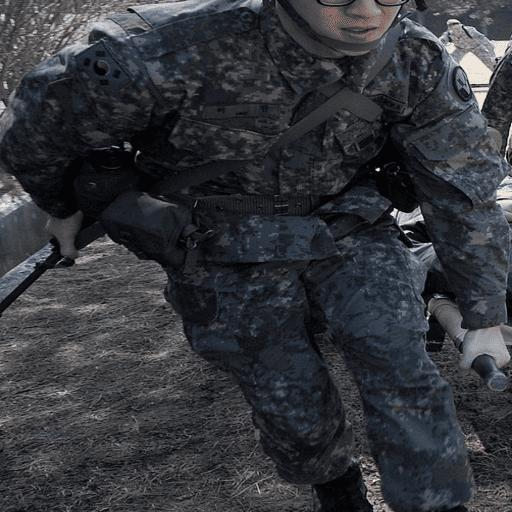korea army: (1, 0, 510, 510)
